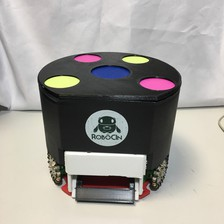robot: (34, 50, 183, 206)
